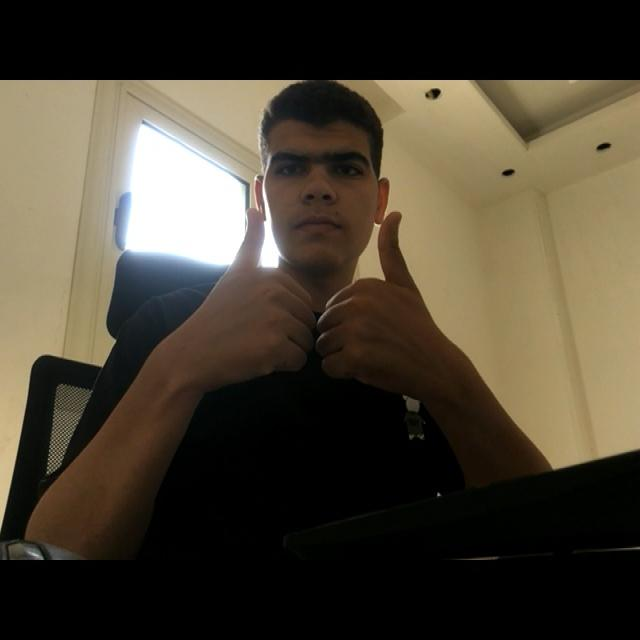Hello-ptrO: (158, 192, 512, 435)
